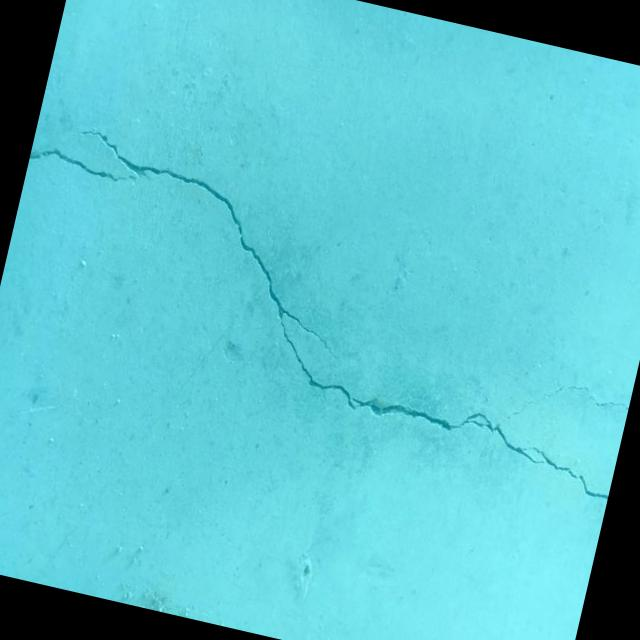crack: (0, 116, 640, 501)
